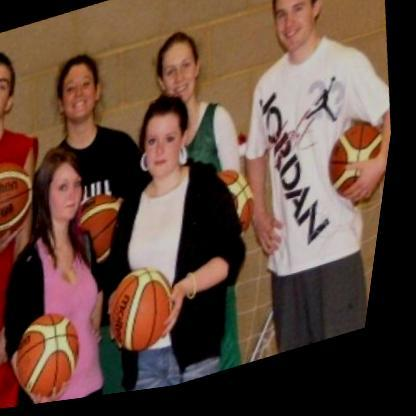basketball: (9, 301, 105, 408), (106, 258, 197, 365), (316, 122, 399, 223), (64, 181, 149, 275), (207, 160, 275, 248), (0, 157, 46, 245)
